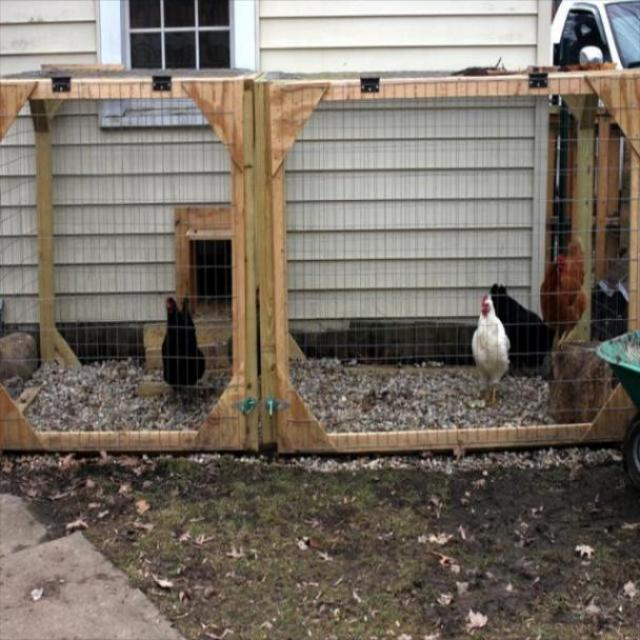Chicken: (539, 237, 587, 363), (474, 289, 520, 400), (162, 297, 206, 396)
